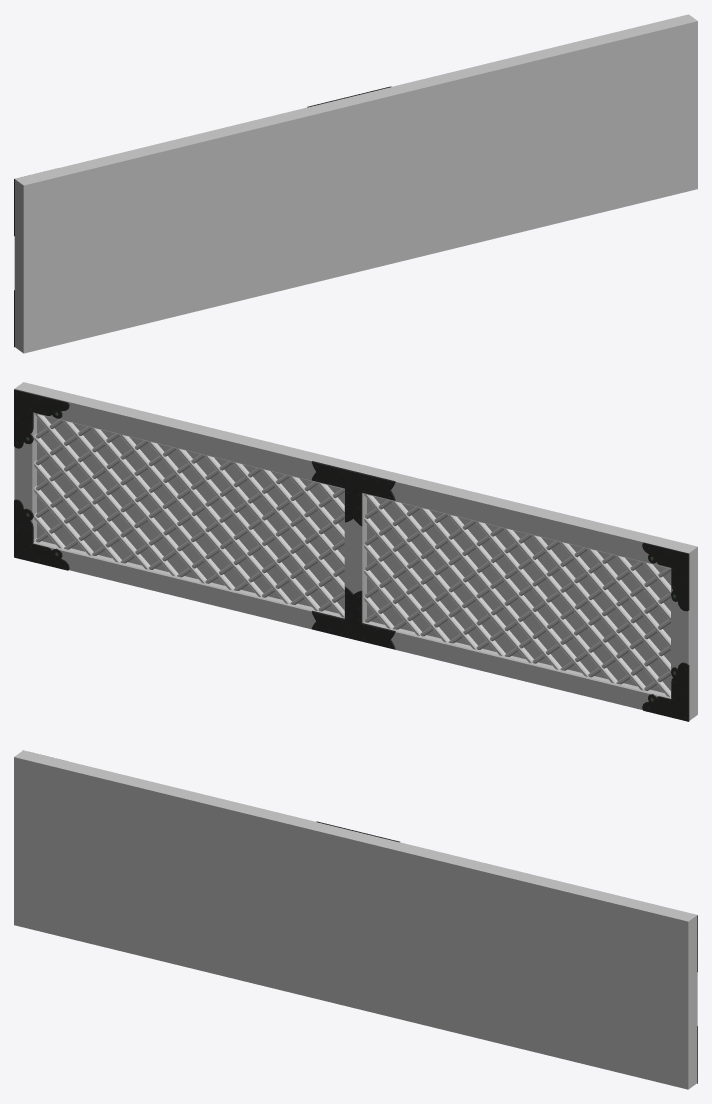
Rendered from SM_GJJ_1F_Window01D.fbx.
The picture shows the model from 3 angles, top to bottom: view 1: azimuth 30°, elevation 25°; view 2: azimuth 150°, elevation 25°; view 3: azimuth 330°, elevation 25°; orthographic projection.
Parts seen in each view (by area): view 1: SM_GJJ_1F_Window01D; view 2: SM_GJJ_1F_Window01D; view 3: SM_GJJ_1F_Window01D.
Boxes of the visible parts, x1,y1,x2,y2 form: SM_GJJ_1F_Window01D: (14,14,697,353); SM_GJJ_1F_Window01D: (14,382,697,721); SM_GJJ_1F_Window01D: (14,750,697,1089).
Bounding box in the file's own units: 254 × 6.4 × 60.72.
